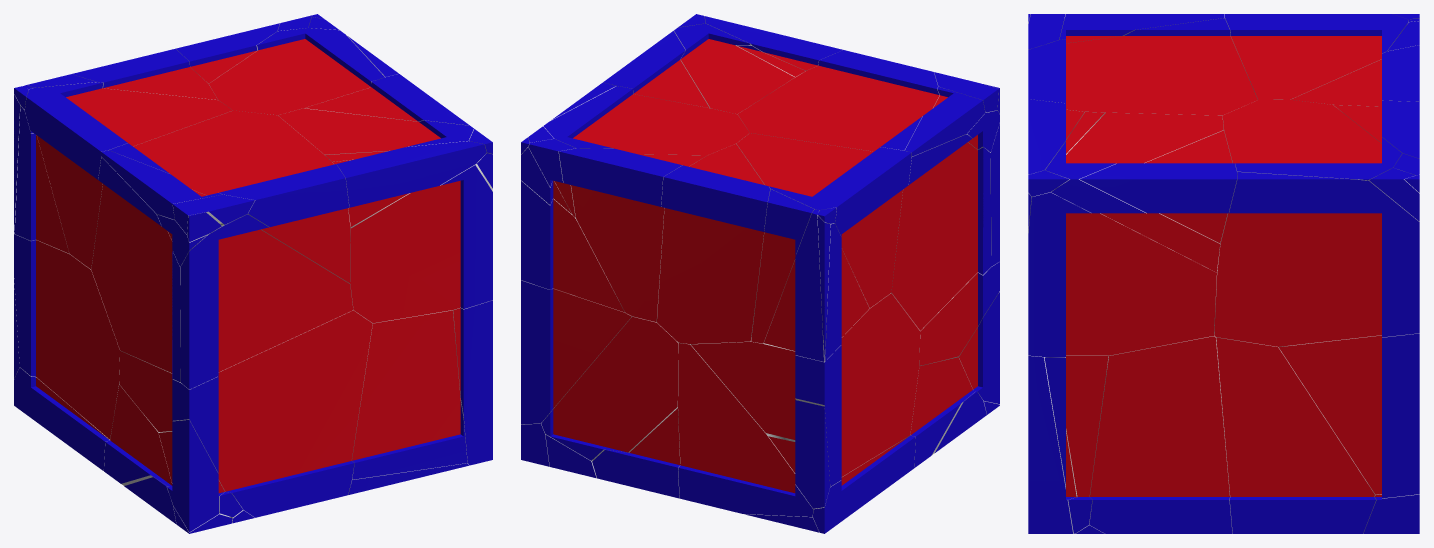
Rendered from Crate Fractured.fbx.
3 renders of one model, left to right at view 1: azimuth 30°, elevation 25°; view 2: azimuth 150°, elevation 25°; view 3: azimuth 270°, elevation 25°, orthographic. The views are drawn at different scales.
Parts seen in each view (by area): view 1: Crate_cell.038, Crate_cell.010, Crate_cell.017, Crate_cell.011, Crate_cell.012, Crate_cell.032, Crate_cell.042, Crate_cell.014, Crate_cell.008, Crate_cell.002, Crate_cell.034, Crate_cell.003 (+13 smaller); view 2: Crate_cell.042, Crate_cell.029, Crate_cell.014, Crate_cell.032, Crate_cell.010, Crate_cell.051, Crate_cell.033, Crate_cell.052, Crate_cell.008, Crate_cell.024, Crate_cell.009, Crate_cell.046 (+22 smaller); view 3: Crate_cell.046, Crate_cell.048, Crate_cell.011, Crate_cell.047, Crate_cell.010, Crate_cell.024, Crate_cell.034, Crate_cell.032, Crate_cell.008, Crate_cell.049, Crate_cell.027, Crate_cell.003 (+9 smaller).
Boxes of the visible parts, x1,y1,x2,y2 form: Crate_cell.038: [119, 310, 372, 517]; Crate_cell.010: [109, 110, 350, 283]; Crate_cell.017: [180, 214, 353, 389]; Crate_cell.011: [325, 151, 492, 323]; Crate_cell.012: [351, 310, 467, 479]; Crate_cell.032: [24, 82, 232, 269]; Crate_cell.042: [14, 234, 119, 439]; Crate_cell.014: [91, 156, 180, 382]; Crate_cell.008: [209, 28, 384, 115]; Crate_cell.002: [332, 141, 486, 226]; Crate_cell.034: [278, 108, 473, 154]; Crate_cell.003: [453, 300, 492, 465]; Crate_cell.042: [690, 293, 920, 486]; Crate_cell.029: [657, 144, 770, 343]; Crate_cell.014: [891, 134, 991, 330]; Crate_cell.032: [736, 133, 911, 308]; Crate_cell.010: [737, 50, 939, 151]; Crate_cell.051: [678, 342, 812, 516]; Crate_cell.033: [559, 148, 706, 322]; Crate_cell.052: [541, 316, 678, 461]; Crate_cell.008: [544, 86, 749, 155]; Crate_cell.024: [521, 280, 631, 424]; Crate_cell.009: [764, 209, 869, 361]; Crate_cell.046: [521, 82, 624, 312]; Crate_cell.046: [1214, 172, 1419, 346]; Crate_cell.048: [1089, 335, 1232, 533]; Crate_cell.011: [1028, 112, 1220, 356]; Crate_cell.047: [1216, 337, 1375, 533]; Crate_cell.010: [1028, 18, 1257, 119]; Crate_cell.024: [1278, 333, 1419, 498]; Crate_cell.034: [1045, 112, 1223, 272]; Crate_cell.032: [1225, 14, 1408, 99]; Crate_cell.008: [1222, 99, 1402, 181]; Crate_cell.049: [1079, 130, 1236, 243]; Crate_cell.027: [1044, 355, 1108, 533]; Crate_cell.003: [1028, 355, 1077, 533].
Bounding box in the file's own units: 200 × 200 × 200.
